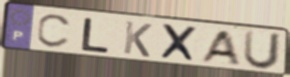A: (196, 30, 242, 66)
C: (35, 13, 74, 50)
K: (122, 20, 154, 59)
L: (79, 16, 112, 55)
U: (241, 29, 284, 72)
X: (159, 23, 200, 64)
